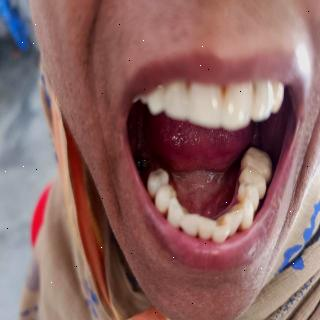maligned: (210, 220, 234, 247)
